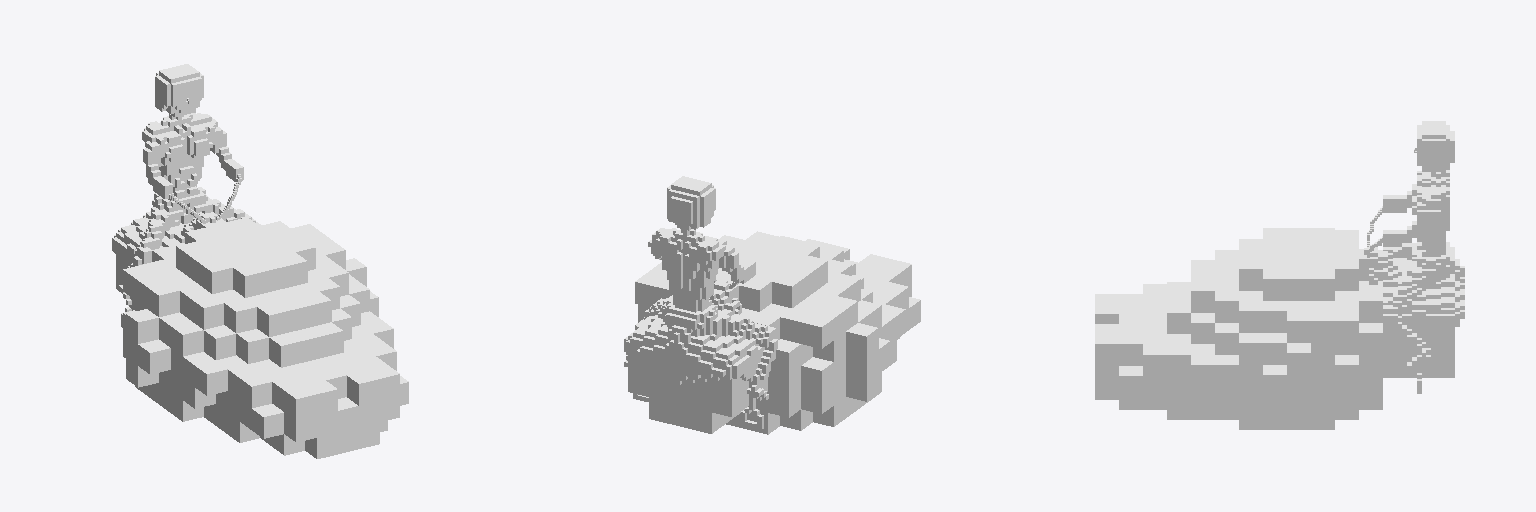
The model's file is snakevanhead.obj.
3 renders of one model, left to right at view 1: azimuth 30°, elevation 25°; view 2: azimuth 150°, elevation 25°; view 3: azimuth 270°, elevation 25°, orthographic.
Visible parts, largest first — view 1: object 1; view 2: object 1; view 3: object 1.
Boxes of the visible parts, box(x1,y1,x2,y2) form: object 1: box(112, 64, 408, 458); object 1: box(624, 176, 920, 434); object 1: box(1095, 121, 1464, 429).
Size of the model in its own units: 16.5 by 17.7 by 23.1.